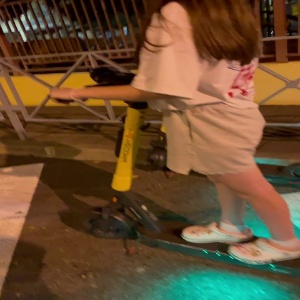human on a scooter: (49, 1, 300, 279)
